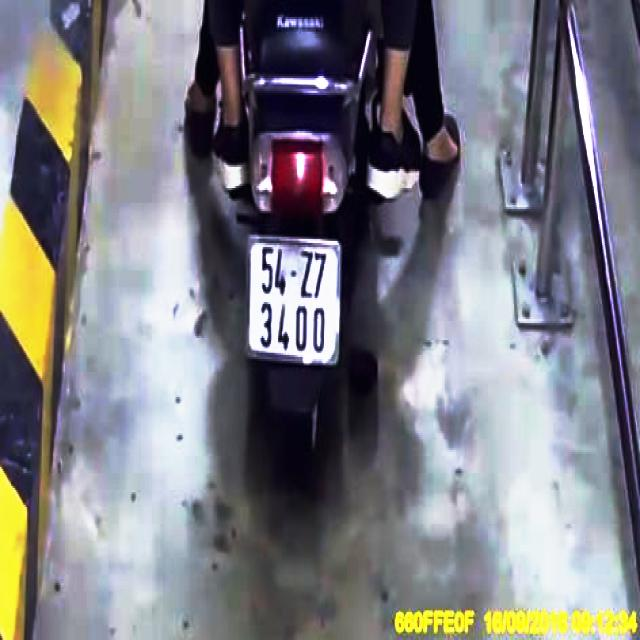license_plate: (247, 237, 341, 365)
